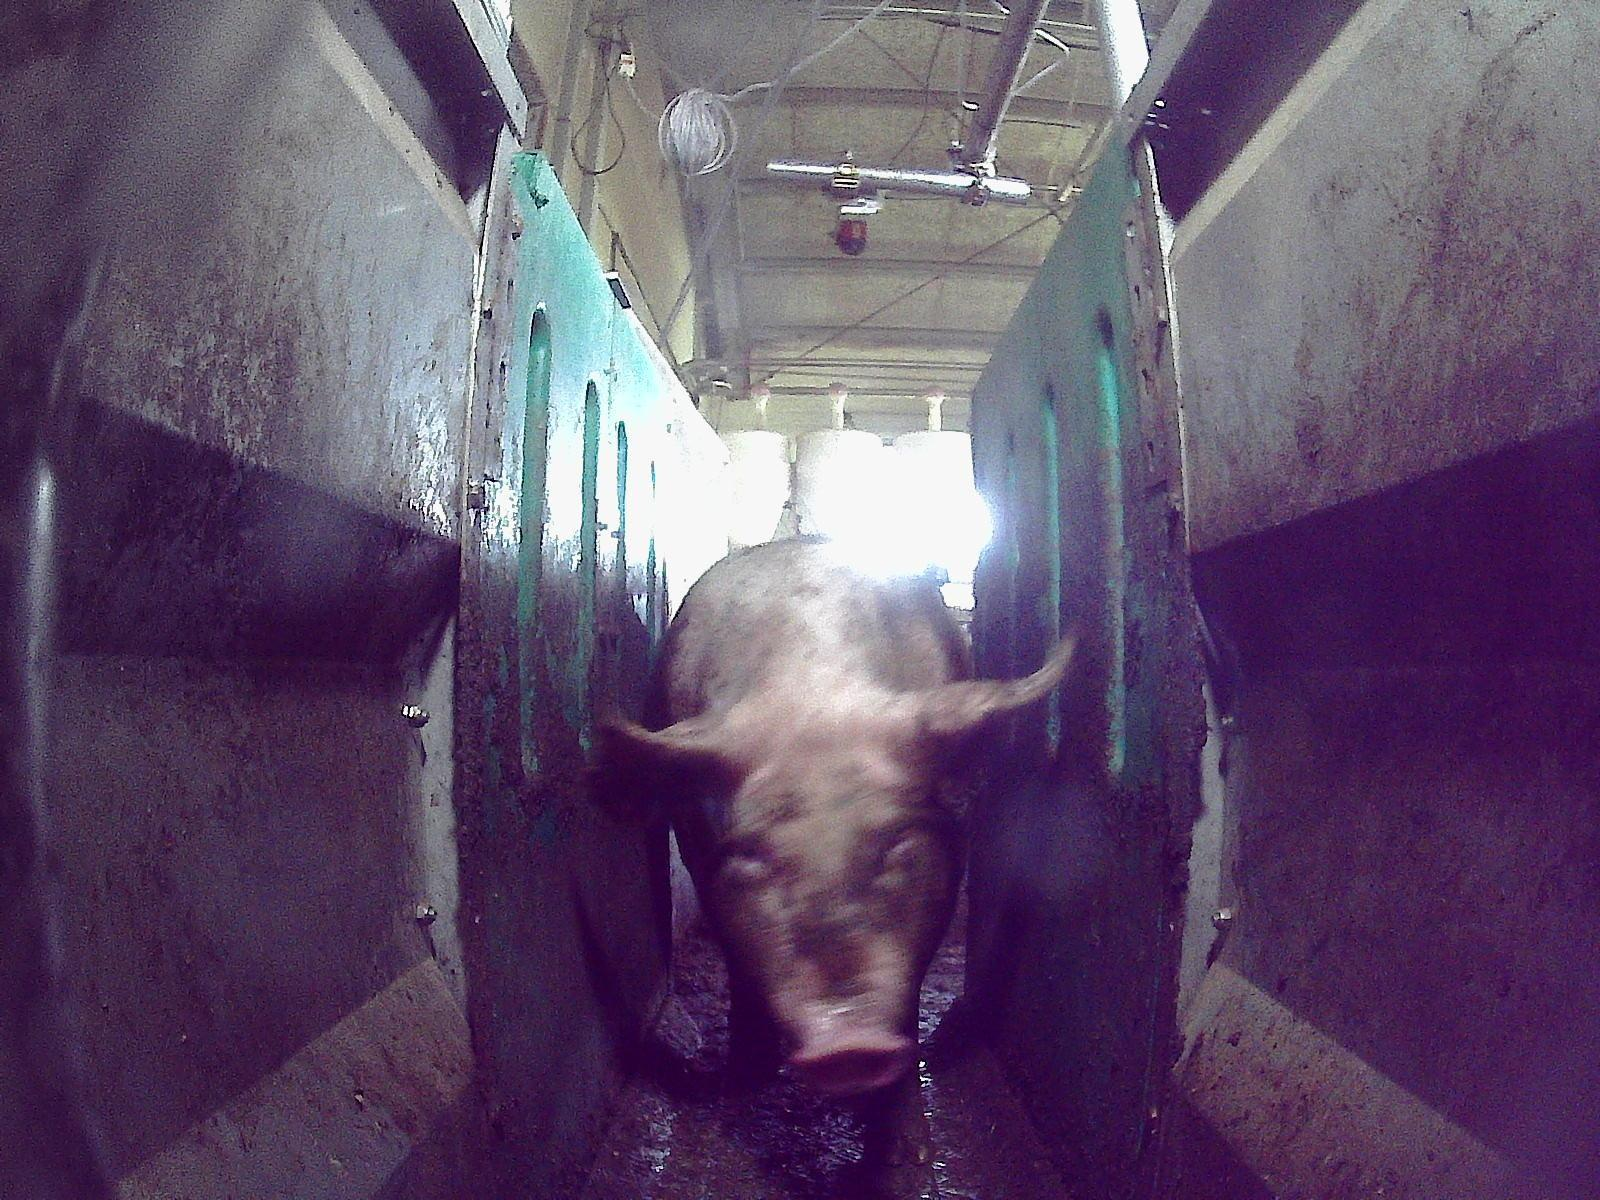Face: (692, 688, 952, 1098)
